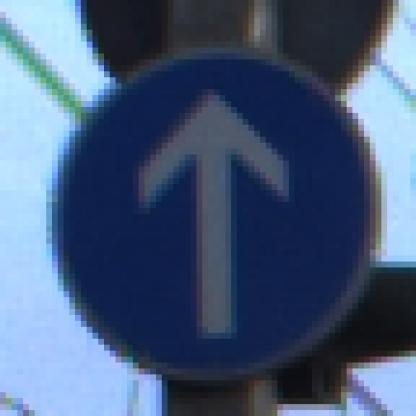AheadOnly: (42, 37, 383, 381)
